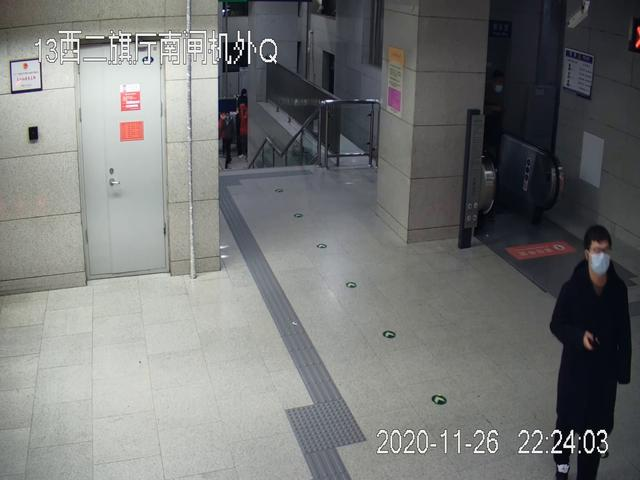person: (550, 223, 632, 480)
